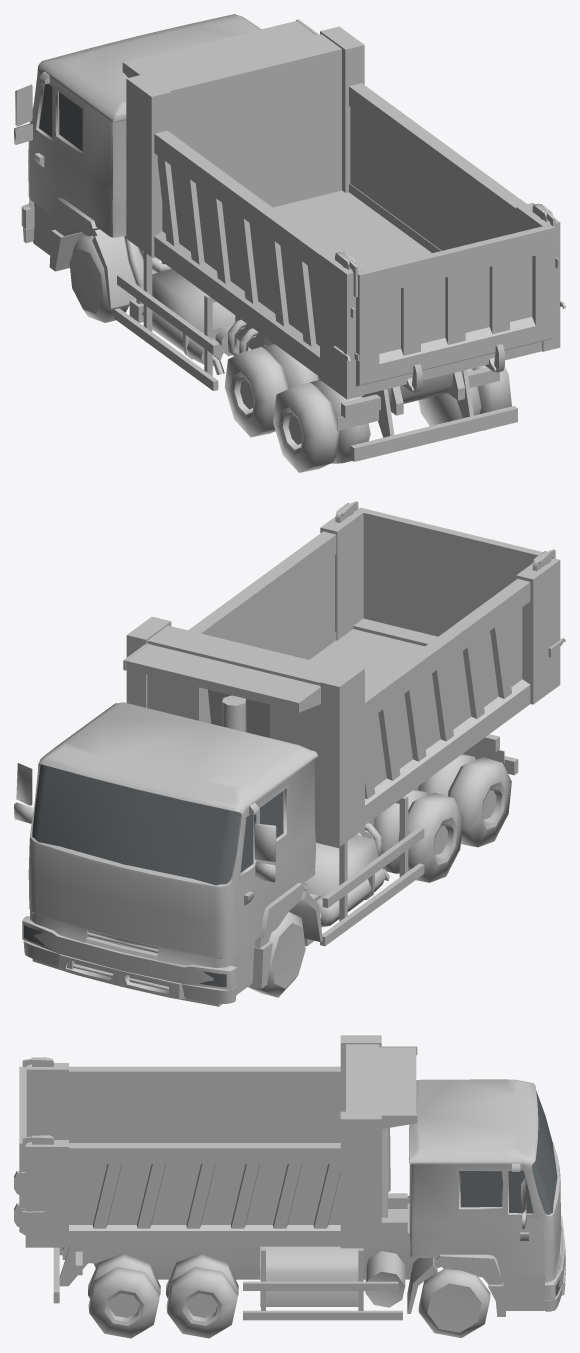
File: tipDump.FBX
3 renders of one model, top to bottom at view 1: azimuth 30°, elevation 25°; view 2: azimuth 150°, elevation 25°; view 3: azimuth 270°, elevation 25°, orthographic. The views are drawn at different scales.
Parts seen in each view (by area): view 1: tipDump_body, tipDump_window; view 2: tipDump_body, tipDump_window; view 3: tipDump_body, tipDump_window.
Boxes of the visible parts, x1,y1,x2,y2 form: tipDump_body: (14, 14, 565, 472); tipDump_window: (39, 83, 82, 151); tipDump_body: (14, 501, 565, 1006); tipDump_window: (24, 764, 283, 987); tipDump_body: (14, 1035, 565, 1338); tipDump_window: (460, 1091, 560, 1295).
Size of the model in its own units: 243 by 248 by 555.
